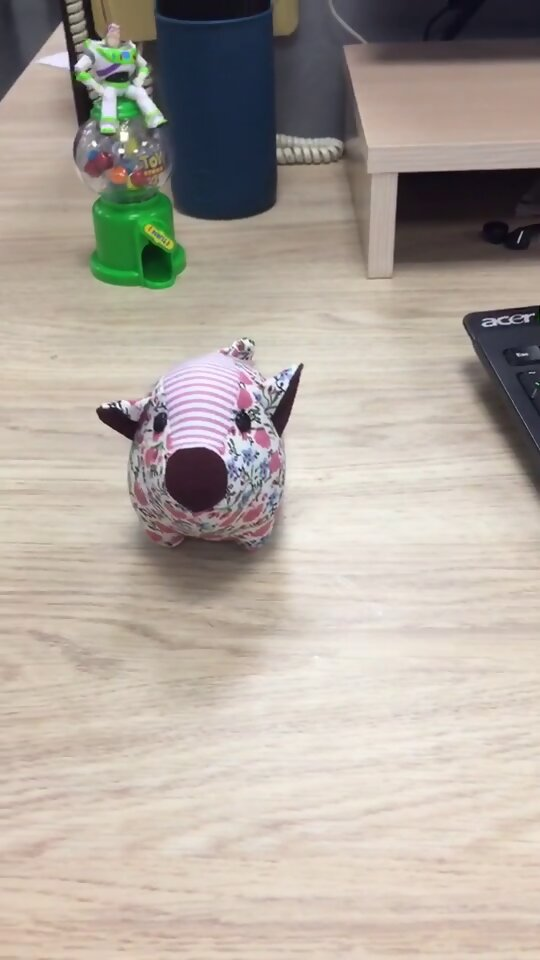pig: (86, 337, 307, 556)
